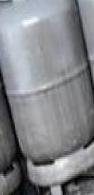cylinder: (1, 1, 94, 195)
